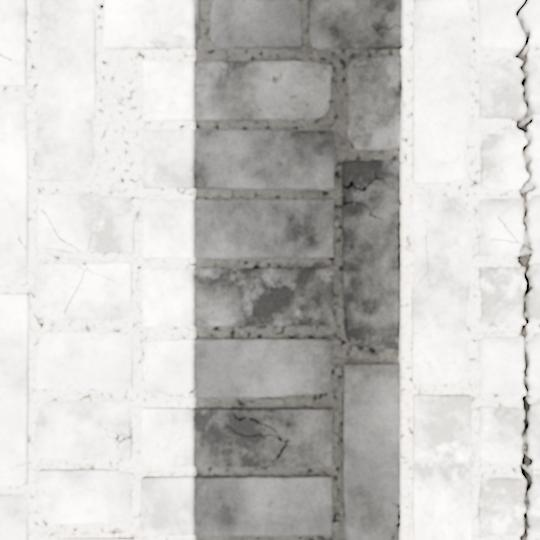brick: (143, 61, 331, 120), (141, 476, 331, 534), (143, 130, 333, 188), (141, 408, 331, 466), (143, 199, 332, 257), (143, 268, 332, 325), (412, 194, 469, 383), (343, 161, 400, 348), (144, 339, 332, 395), (37, 0, 95, 180), (413, 0, 470, 183), (344, 364, 400, 539), (413, 395, 471, 539), (0, 295, 29, 484), (35, 401, 132, 457), (36, 332, 132, 388), (38, 195, 134, 251), (35, 264, 131, 319), (0, 99, 28, 284), (348, 55, 402, 148), (37, 469, 131, 522), (103, 0, 199, 49), (309, 0, 403, 49), (211, 0, 302, 48), (0, 0, 26, 86), (0, 494, 28, 539), (64, 538, 133, 539), (395, 529, 399, 539)
broken_brick: (477, 476, 524, 536), (479, 130, 526, 190), (477, 336, 523, 395), (477, 60, 523, 119), (477, 197, 521, 257), (478, 266, 523, 324), (478, 405, 522, 464), (477, 0, 522, 48), (524, 0, 539, 44), (528, 56, 539, 115), (529, 402, 539, 461), (530, 473, 539, 532), (530, 126, 539, 185), (530, 194, 539, 252), (530, 333, 539, 391), (531, 262, 539, 320)
crack: (489, 0, 537, 539), (63, 263, 116, 316), (40, 207, 99, 253), (342, 195, 384, 221), (98, 422, 131, 450), (342, 170, 385, 191), (156, 387, 195, 398), (391, 501, 402, 539), (0, 461, 26, 473), (371, 24, 404, 32), (445, 154, 461, 164), (143, 109, 164, 116), (0, 52, 13, 61), (141, 513, 148, 521), (21, 481, 26, 486), (145, 367, 148, 374), (510, 408, 514, 412)
